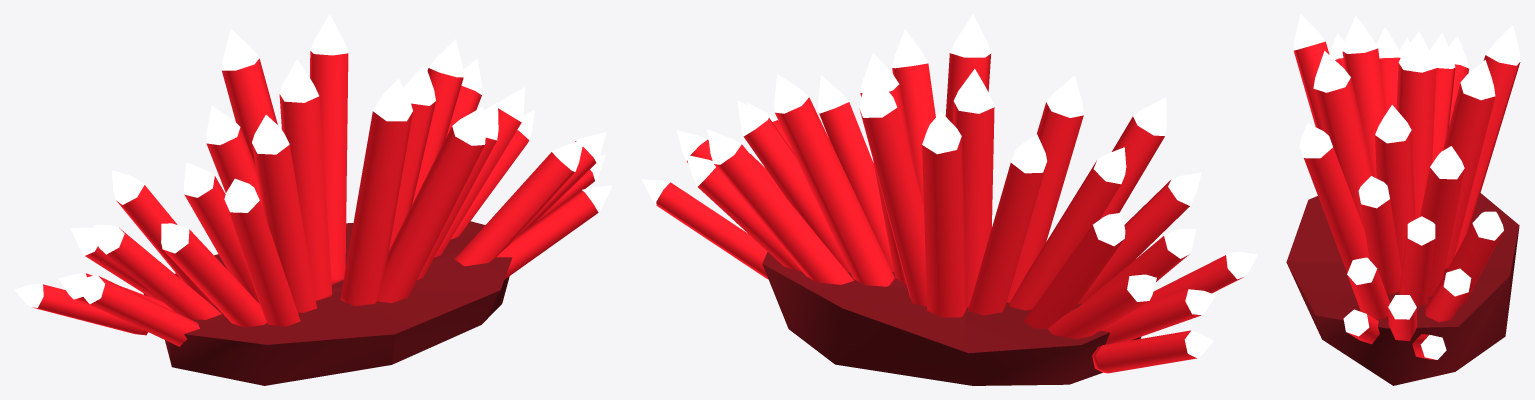
Rendered from 05-druse.glb.
3 views of the same model, side by side, from view 1: azimuth 30°, elevation 25°; view 2: azimuth 150°, elevation 25°; view 3: azimuth 270°, elevation 25° (orthographic). The views are drawn at different scales.
Parts seen in each view (by area): view 1: bed, blade14_shaft, blade17_shaft, blade13_shaft, blade15_shaft, blade11_shaft, blade22_shaft, blade9_shaft, blade6_shaft, blade5_shaft, blade25_shaft, blade3_shaft (+31 smaller); view 2: bed, blade18_shaft, blade12_shaft, blade15_shaft, blade20_shaft, blade10_shaft, blade13_shaft, blade8_shaft, blade11_shaft, blade19_shaft, blade21_shaft, blade7_shaft (+34 smaller); view 3: bed, blade14_shaft, blade17_shaft, blade13_shaft, blade15_shaft, blade16_shaft, blade11_shaft, blade18_shaft, blade12_shaft, blade19_shaft, blade21_shaft, blade20_shaft (+30 smaller).
Part boxes in pixels (x1=…): bed: x1=143, y1=221, x2=512, y2=385; blade14_shaft: x1=340, y1=111, x2=412, y2=306; blade17_shaft: x1=377, y1=126, x2=484, y2=302; blade13_shaft: x1=279, y1=94, x2=332, y2=300; blade15_shaft: x1=310, y1=51, x2=348, y2=284; blade11_shaft: x1=252, y1=143, x2=316, y2=312; blade22_shaft: x1=454, y1=152, x2=574, y2=266; blade9_shaft: x1=225, y1=201, x2=300, y2=326; blade6_shaft: x1=163, y1=229, x2=266, y2=327; blade5_shaft: x1=106, y1=228, x2=221, y2=319; blade25_shaft: x1=496, y1=190, x2=598, y2=279; blade3_shaft: x1=90, y1=276, x2=199, y2=346; bed: x1=762, y1=252, x2=1141, y2=385; blade18_shaft: x1=775, y1=97, x2=894, y2=286; blade12_shaft: x1=922, y1=137, x2=966, y2=317; blade15_shaft: x1=859, y1=108, x2=926, y2=306; blade20_shaft: x1=714, y1=144, x2=853, y2=284; blade10_shaft: x1=968, y1=163, x2=1046, y2=315; blade13_shaft: x1=953, y1=101, x2=994, y2=307; blade8_shaft: x1=1009, y1=160, x2=1120, y2=310; blade11_shaft: x1=1006, y1=102, x2=1083, y2=302; blade19_shaft: x1=819, y1=102, x2=894, y2=271; blade21_shaft: x1=743, y1=118, x2=850, y2=272; blade7_shaft: x1=1024, y1=225, x2=1124, y2=328; bed: x1=1286, y1=193, x2=1519, y2=385; blade14_shaft: x1=1313, y1=78, x2=1374, y2=229; blade17_shaft: x1=1304, y1=145, x2=1369, y2=272; blade13_shaft: x1=1396, y1=63, x2=1436, y2=219; blade15_shaft: x1=1443, y1=83, x2=1495, y2=268; blade16_shaft: x1=1375, y1=130, x2=1415, y2=272; blade11_shaft: x1=1342, y1=48, x2=1386, y2=178; blade18_shaft: x1=1420, y1=167, x2=1464, y2=296; blade12_shaft: x1=1454, y1=55, x2=1520, y2=256; blade19_shaft: x1=1359, y1=194, x2=1401, y2=294; blade21_shaft: x1=1399, y1=225, x2=1435, y2=306; blade20_shaft: x1=1445, y1=223, x2=1503, y2=307.
Size of the model in its own units: 3.37 by 1.6 by 1.25.
